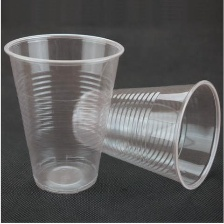glass: (0, 29, 127, 201), (66, 76, 224, 193)
